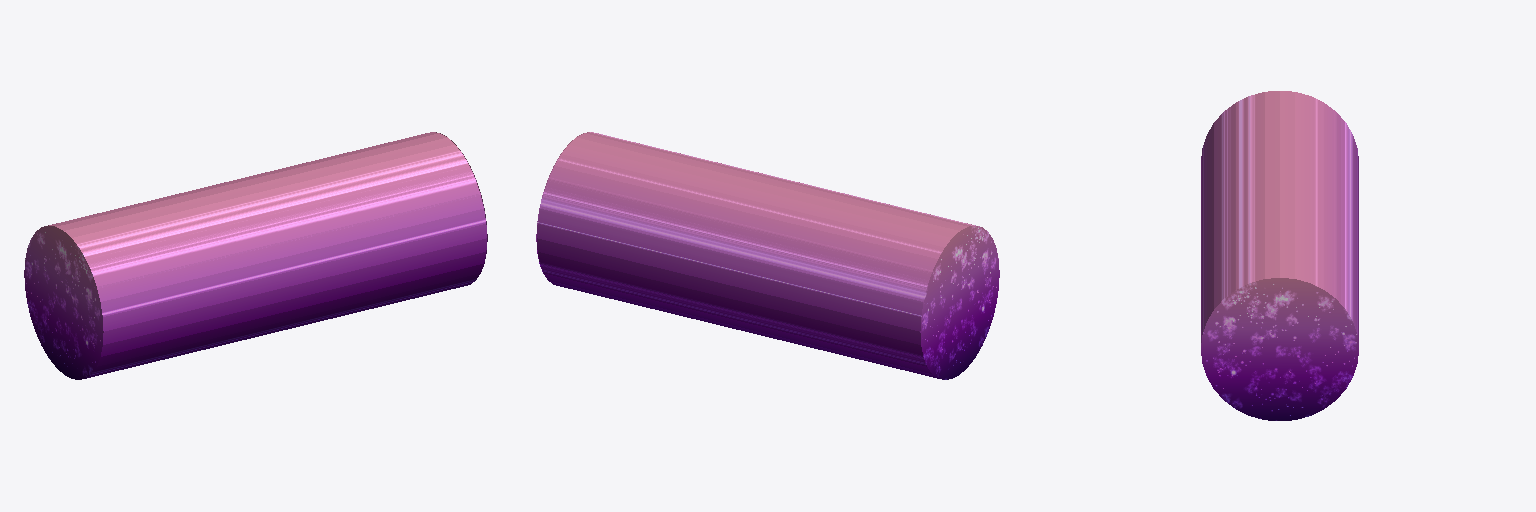
3 renders of one model, left to right at view 1: azimuth 30°, elevation 25°; view 2: azimuth 150°, elevation 25°; view 3: azimuth 270°, elevation 25°, orthographic.
Parts seen in each view (by area): view 1: 円.001; view 2: 円.001; view 3: 円.001.
Part boxes in pixels (bbox=[...]): 円.001: bbox=[24, 132, 487, 379]; 円.001: bbox=[536, 132, 999, 379]; 円.001: bbox=[1201, 91, 1358, 420].
Size of the model in its own units: 56.04 by 20.02 by 20.02.
Materials: 2 (1 with a texture image).